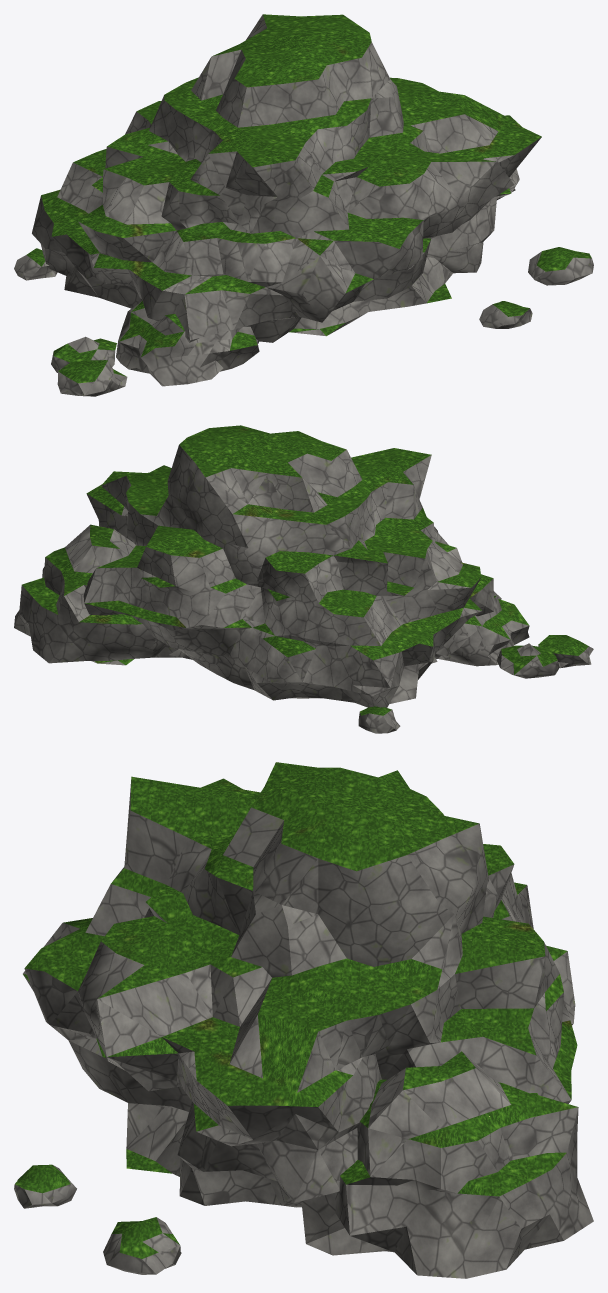
File: rock.gltf
3 views of the same model, one above another, from view 1: azimuth 30°, elevation 25°; view 2: azimuth 150°, elevation 25°; view 3: azimuth 270°, elevation 25° (orthographic). The views are drawn at different scales.
Visible parts, largest first — view 1: RockMesh; view 2: RockMesh; view 3: RockMesh.
Part boxes in pixels (x1,y1,x2,y2): RockMesh: (14,14,593,396); RockMesh: (14,425,593,733); RockMesh: (14,762,593,1278).
Size of the model in its own units: 2.44 by 1.02 by 1.6.
2 materials, 2 textured.
